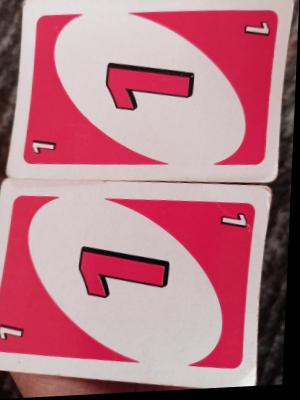num_1: (26, 129, 67, 161)
